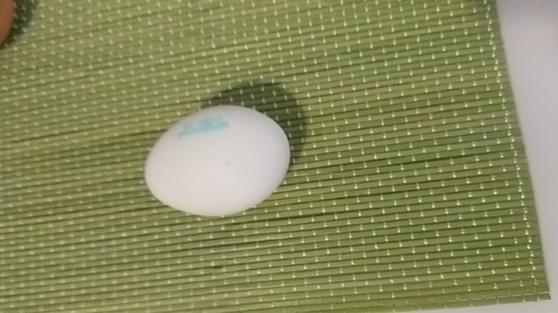egg: (143, 104, 291, 217)
